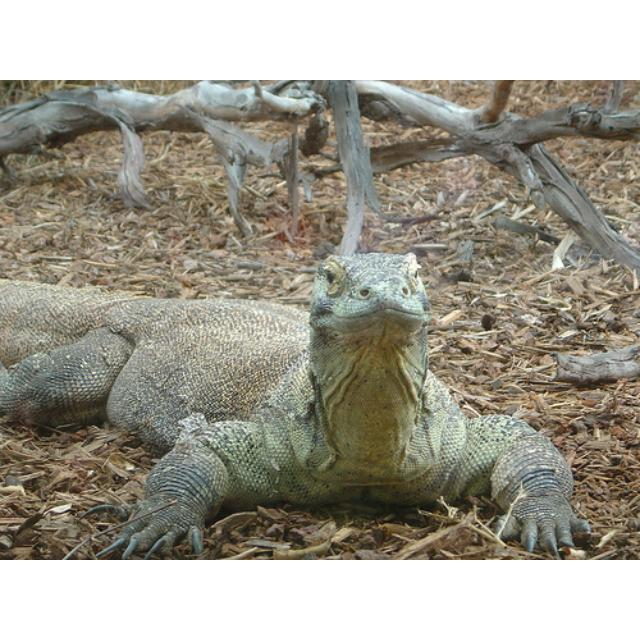KomodoDragon: (1, 251, 600, 558)
